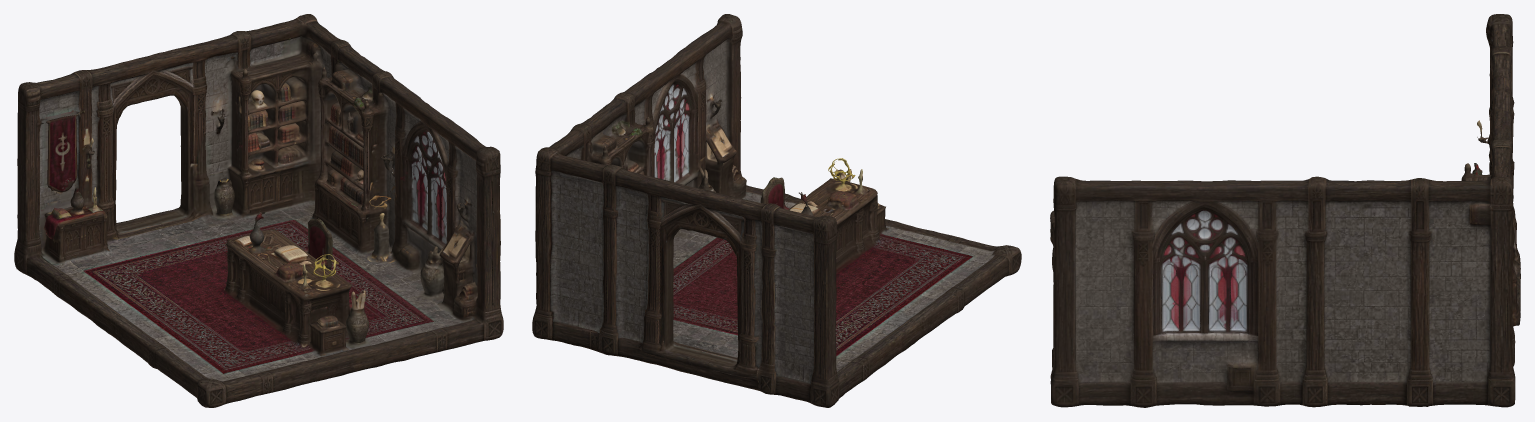
Rendered from medieval study 3d model.glb.
3 views of the same model, side by side, from view 1: azimuth 30°, elevation 25°; view 2: azimuth 150°, elevation 25°; view 3: azimuth 270°, elevation 25° (orthographic). The views are drawn at different scales.
Parts seen in each view (by area): view 1: tripo_node_83c5a74e; view 2: tripo_node_83c5a74e; view 3: tripo_node_83c5a74e.
Boxes of the visible parts, x1=… form: tripo_node_83c5a74e: x1=14, y1=14, x2=503, y2=407; tripo_node_83c5a74e: x1=532, y1=14, x2=1021, y2=407; tripo_node_83c5a74e: x1=1050, y1=14, x2=1520, y2=407.
Bounding box in the file's own units: 85.95 × 51.62 × 97.83.
Materials: 1 (1 with a texture image).
